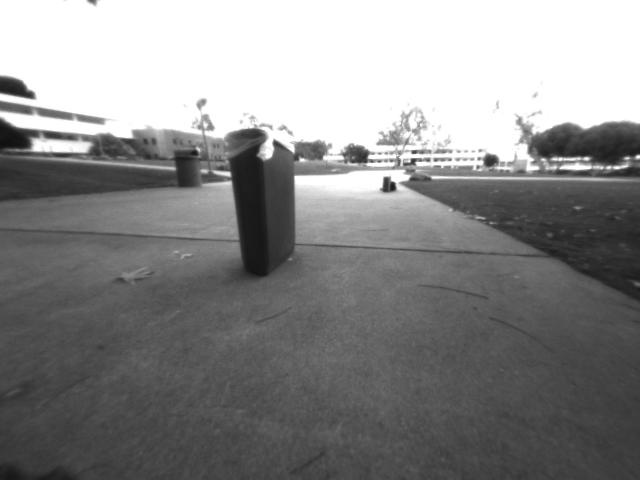trashcan_open: (223, 124, 301, 280)
